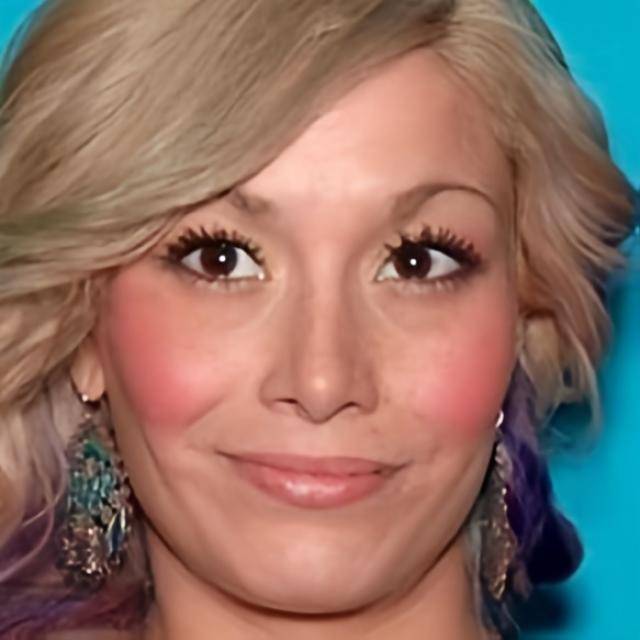content: (103, 41, 521, 612)
